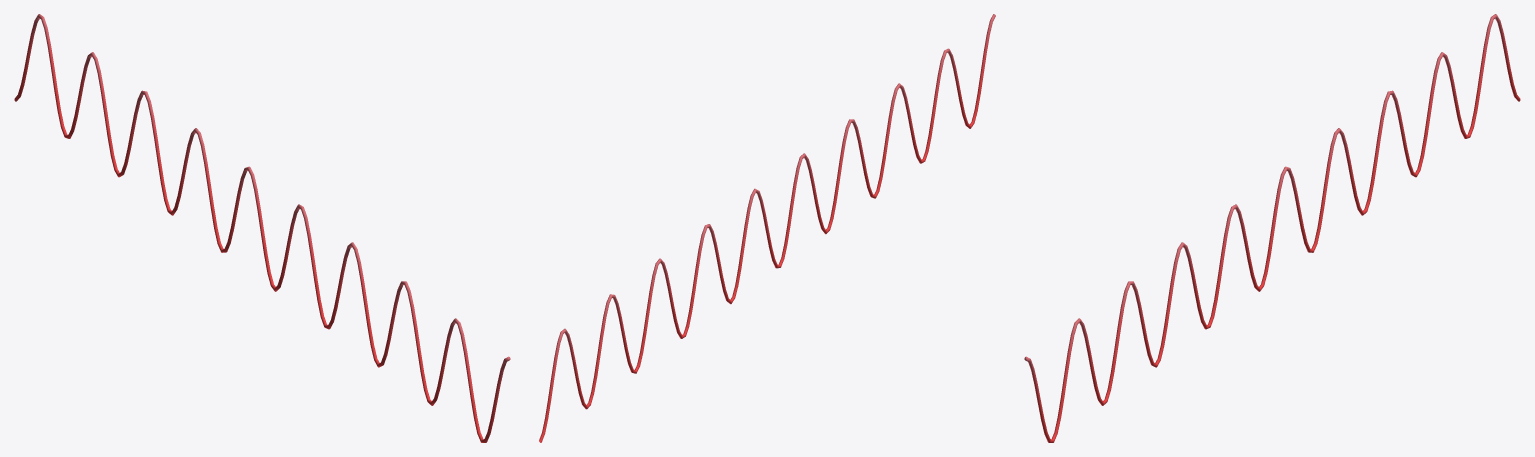
Rendered from Xray-final.glb.
3 renders of one model, left to right at view 1: azimuth 30°, elevation 25°; view 2: azimuth 150°, elevation 25°; view 3: azimuth 330°, elevation 25°, orthographic. The views are drawn at different scales.
Visible parts, largest first — view 1: xray; view 2: xray; view 3: xray.
Part boxes in pixels (x1=…): xray: x1=14, y1=14, x2=510, y2=442; xray: x1=539, y1=14, x2=995, y2=442; xray: x1=1024, y1=14, x2=1520, y2=442.
Size of the model in its own units: 0.0233 by 0.7659 by 6.46.
1 material, 1 textured.
